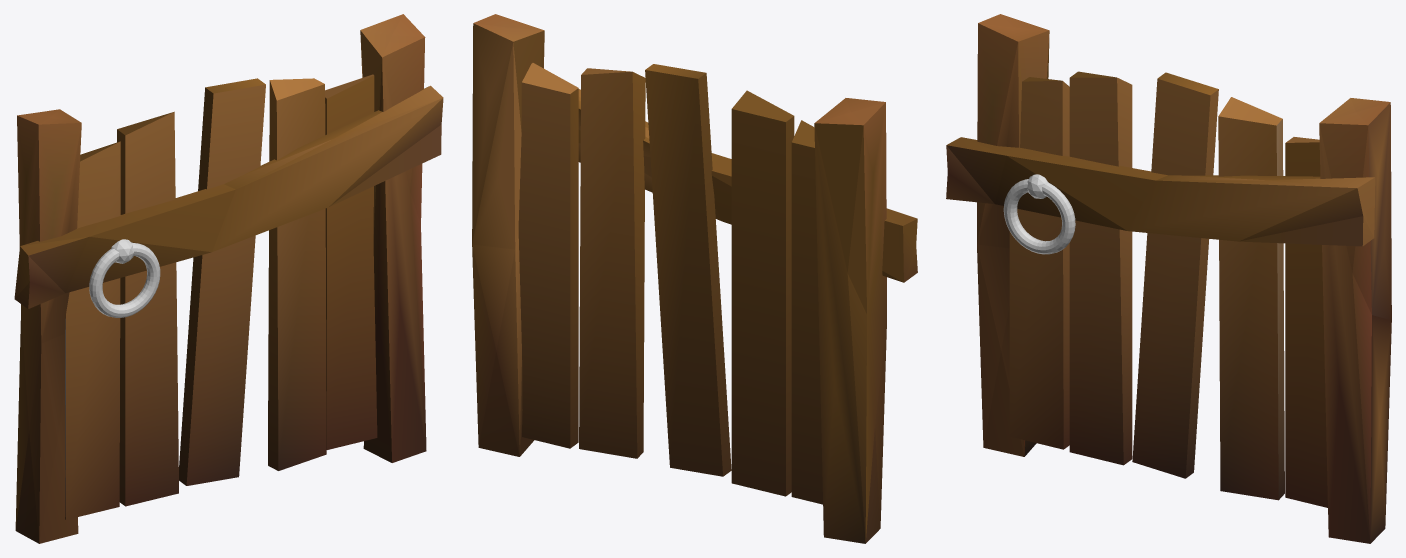
The model's file is MS_Gate.fbx.
3 renders of one model, left to right at view 1: azimuth 30°, elevation 25°; view 2: azimuth 150°, elevation 25°; view 3: azimuth 330°, elevation 25°, orthographic.
Visible parts, largest first — view 1: MS_Gate; view 2: MS_Gate; view 3: MS_Gate.
Part boxes in pixels (x1,y1,x2,y2): MS_Gate: (14,14,443,543); MS_Gate: (472,14,917,543); MS_Gate: (946,14,1391,543).
Bounding box in the file's own units: 86.12 × 83.9 × 15.38.
